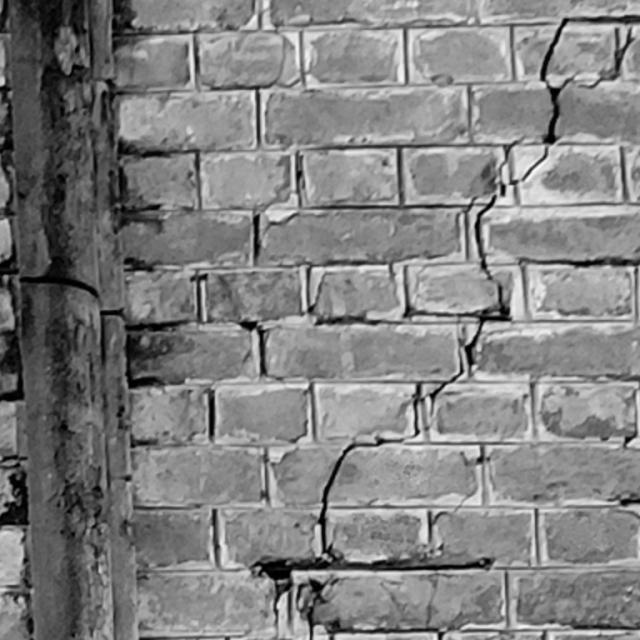crack: (250, 14, 638, 624)
